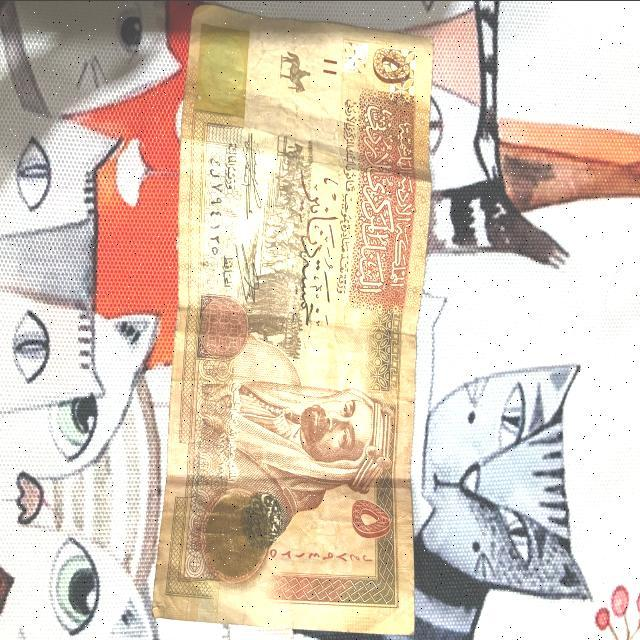5-dinar: (150, 4, 436, 638)
